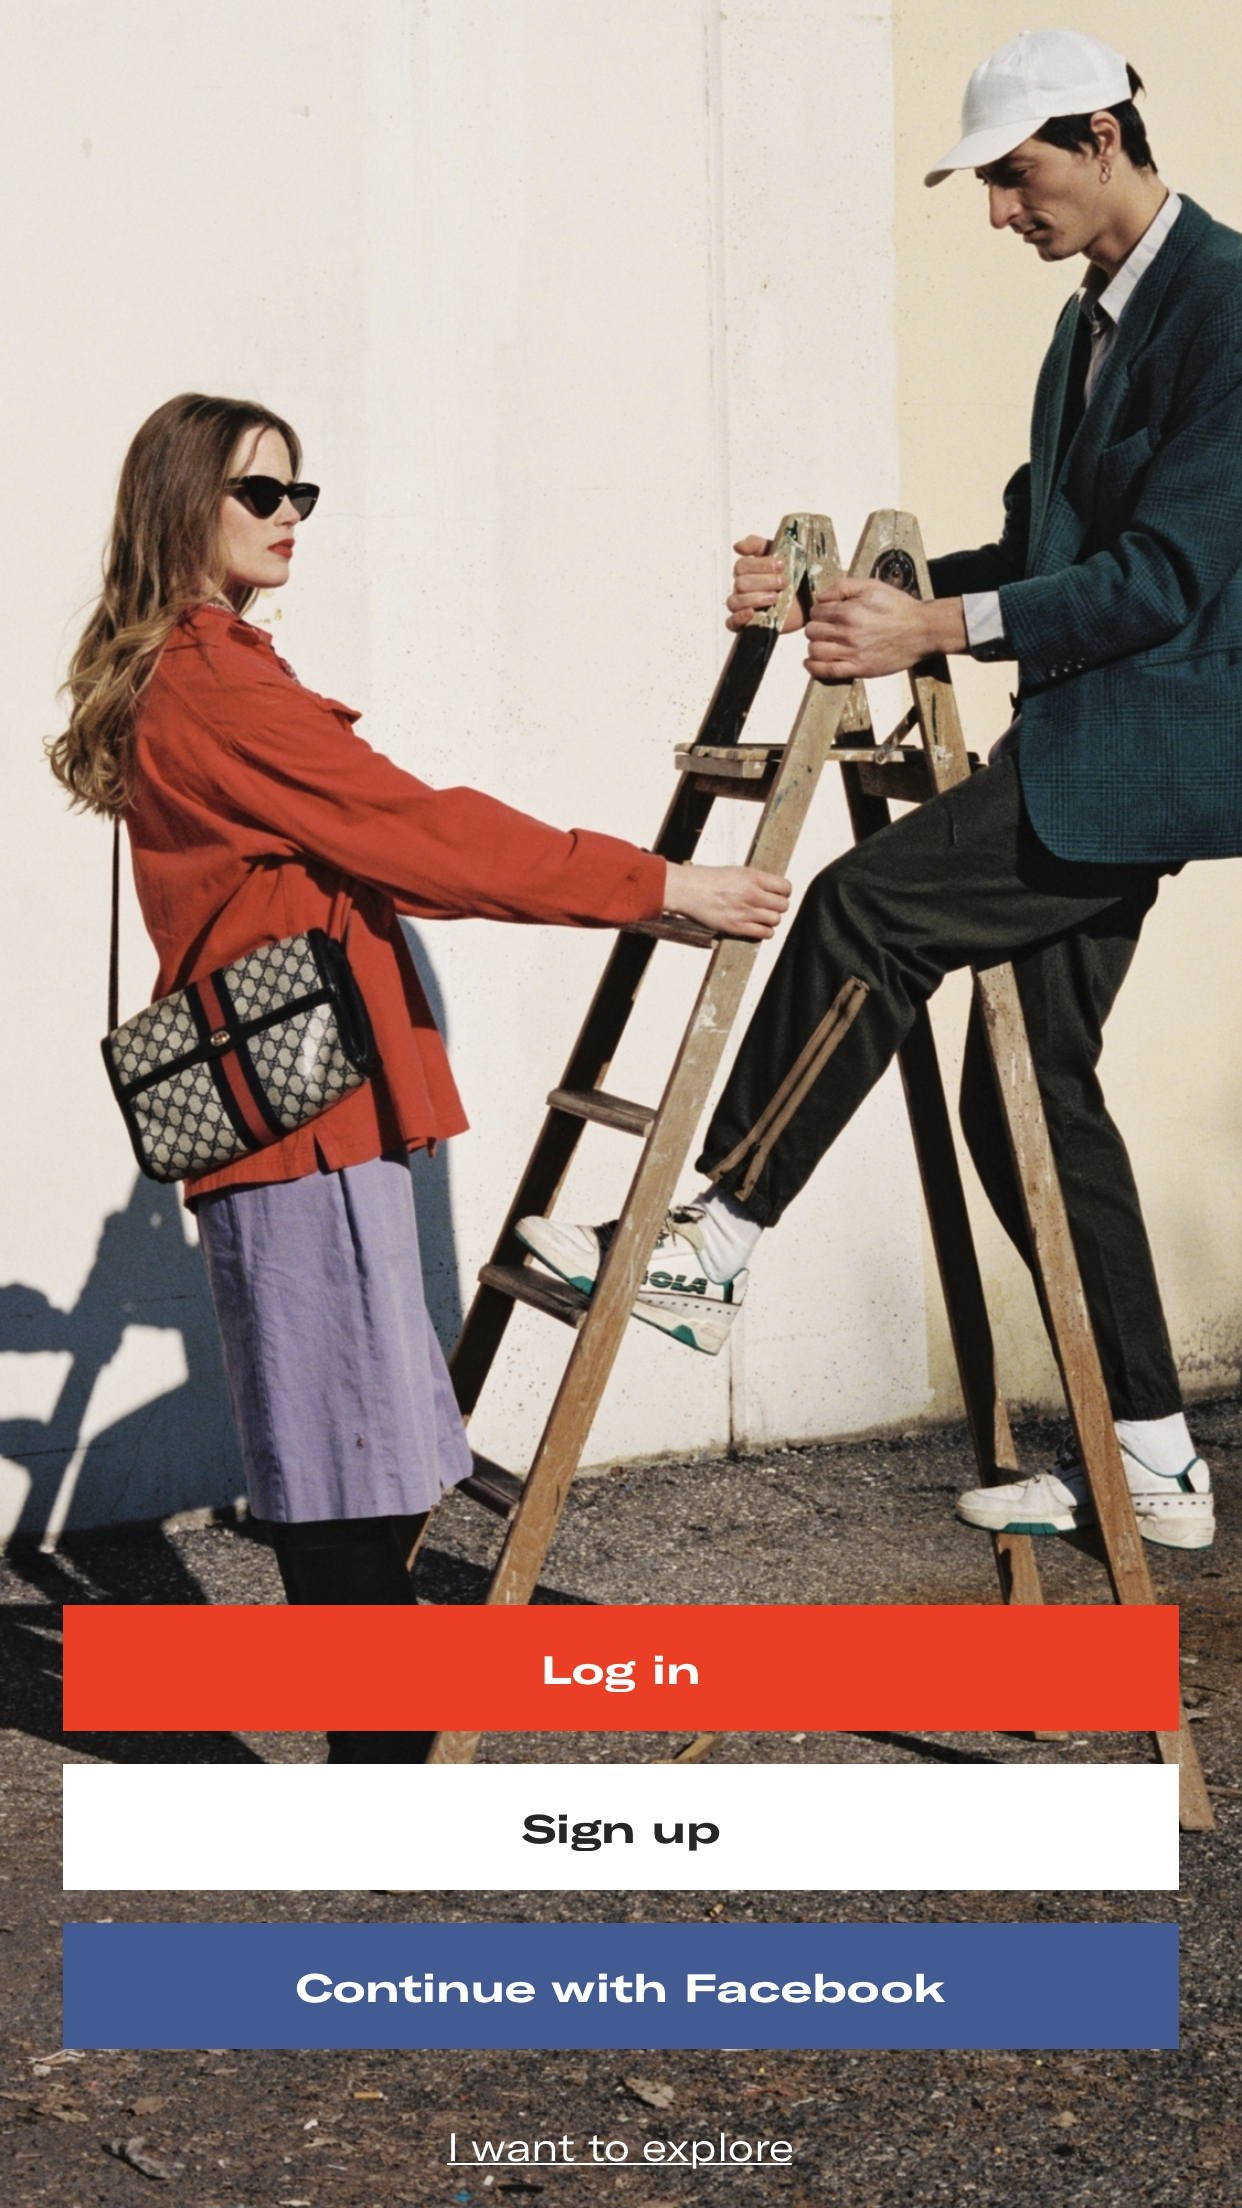BackgroundImage: (2, 2, 1242, 2208)
Text: (446, 2132, 793, 2170)
TextButton: (64, 1764, 1180, 1891), (64, 1604, 1180, 1732), (64, 1923, 1178, 2049)
